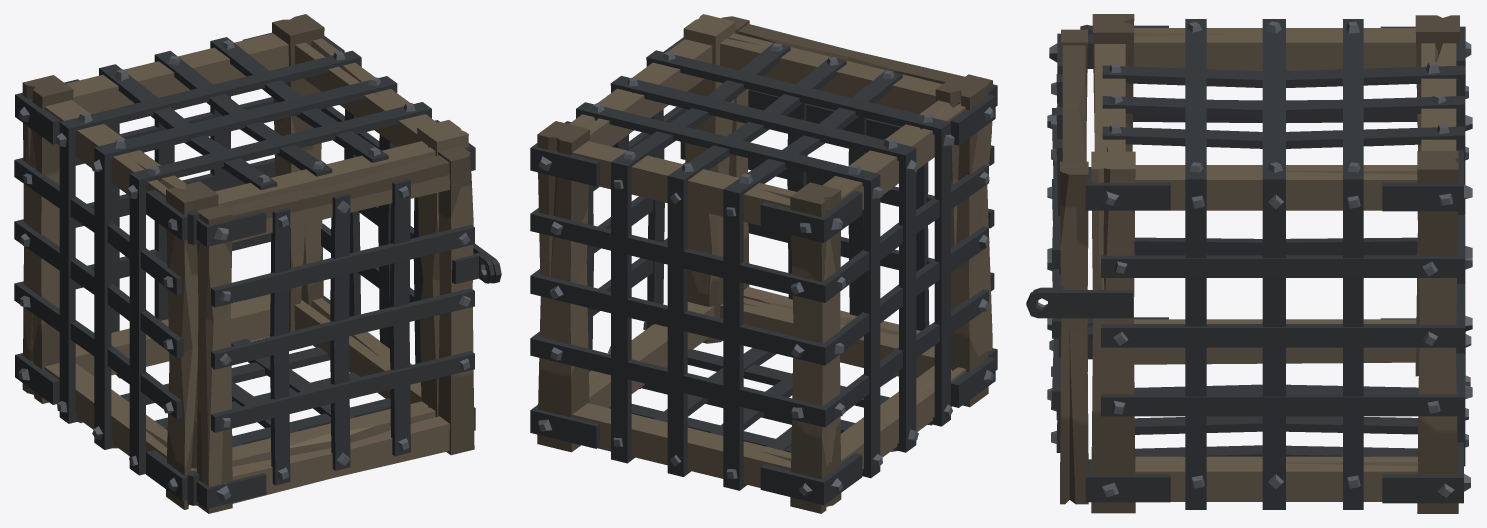
Rendered from crypt_cage.gltf.
The picture shows the model from 3 angles, left to right: view 1: azimuth 30°, elevation 25°; view 2: azimuth 150°, elevation 25°; view 3: azimuth 270°, elevation 25°; orthographic projection. The views are drawn at different scales.
Parts seen in each view (by area): view 1: crypt_cage; view 2: crypt_cage; view 3: crypt_cage.
Part boxes in pixels (<box>): crypt_cage: <box>14,14,501,513</box>; crypt_cage: <box>530,14,997,513</box>; crypt_cage: <box>1026,14,1472,513</box>.
Size of the model in its own units: 1.26 by 1.21 by 1.42.
1 material, 1 textured.
